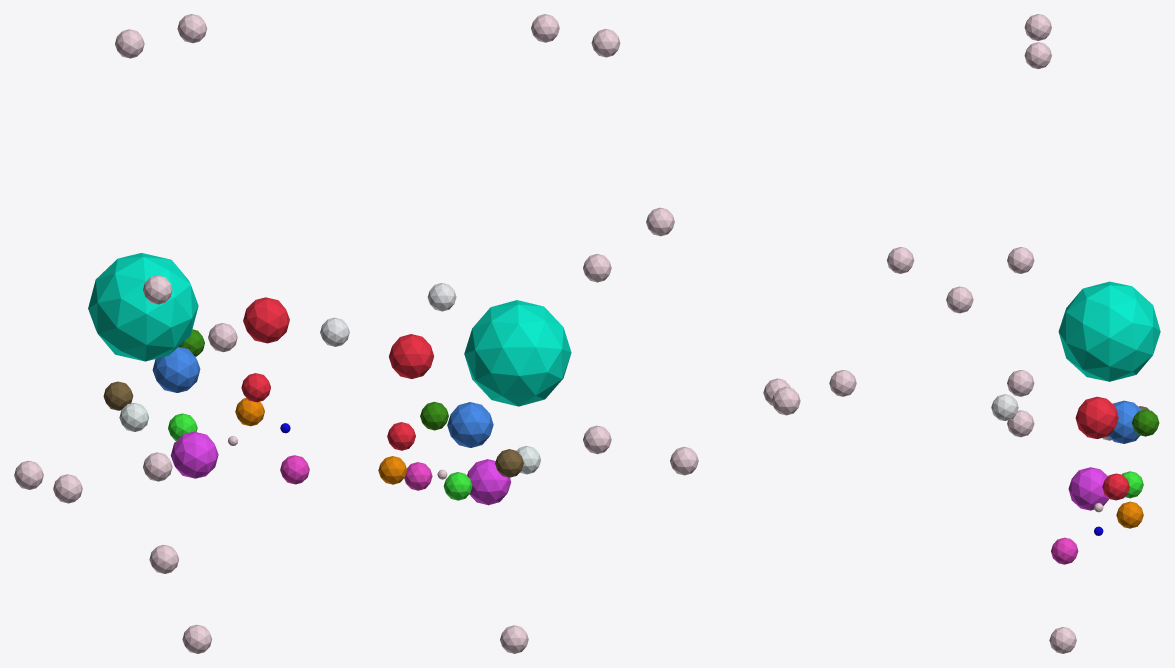
The model's file is bvh_test_scene2.gltf.
3 views of the same model, side by side, from view 1: azimuth 30°, elevation 25°; view 2: azimuth 150°, elevation 25°; view 3: azimuth 270°, elevation 25° (orthographic). The views are drawn at different scales.
Parts seen in each view (by area): view 1: Icosphere.010, Icosphere.006, Icosphere.007, Icosphere.001, Icosphere.016, Icosphere.004, Icosphere.008, Icosphere.014, Icosphere.018, Icosphere.019, Icosphere.020, Icosphere.021 (+8 smaller); view 2: Icosphere.010, Icosphere.001, Icosphere.007, Icosphere.006, Icosphere.012, Icosphere.003, Icosphere.014, Icosphere.017, Icosphere, Icosphere.019, Icosphere.020, Icosphere.002 (+7 smaller); view 3: Icosphere.010, Icosphere.007, Icosphere.006, Icosphere.001, Icosphere.008, Icosphere.014, Icosphere.017, Icosphere.022, Icosphere.018, Icosphere, Icosphere.011, Icosphere.012 (+6 smaller).
Boxes of the visible parts, x1=… form: Icosphere.010: x1=88, y1=253, x2=198, y2=361; Icosphere.006: x1=170, y1=431, x2=218, y2=478; Icosphere.007: x1=243, y1=297, x2=289, y2=343; Icosphere.001: x1=152, y1=346, x2=200, y2=392; Icosphere.016: x1=115, y1=29, x2=144, y2=58; Icosphere.004: x1=119, y1=403, x2=148, y2=431; Icosphere.008: x1=280, y1=455, x2=309, y2=484; Icosphere.014: x1=182, y1=624, x2=211, y2=653; Icosphere.018: x1=143, y1=275, x2=172, y2=304; Icosphere.019: x1=143, y1=452, x2=172, y2=481; Icosphere.020: x1=53, y1=474, x2=82, y2=503; Icosphere.021: x1=149, y1=545, x2=178, y2=573; Icosphere.010: x1=464, y1=300, x2=571, y2=406; Icosphere.001: x1=447, y1=402, x2=493, y2=447; Icosphere.007: x1=389, y1=334, x2=434, y2=378; Icosphere.006: x1=467, y1=459, x2=511, y2=505; Icosphere.012: x1=420, y1=401, x2=448, y2=430; Icosphere.003: x1=378, y1=456, x2=407, y2=484; Icosphere.014: x1=500, y1=625, x2=528, y2=653; Icosphere.017: x1=646, y1=207, x2=674, y2=236; Icosphere: x1=387, y1=422, x2=415, y2=450; Icosphere.019: x1=583, y1=425, x2=611, y2=454; Icosphere.020: x1=670, y1=446, x2=698, y2=475; Icosphere.002: x1=443, y1=472, x2=472, y2=500; Icosphere.010: x1=1058, y1=281, x2=1160, y2=381; Icosphere.007: x1=1075, y1=396, x2=1118, y2=438; Icosphere.006: x1=1068, y1=467, x2=1109, y2=510; Icosphere.001: x1=1108, y1=400, x2=1141, y2=443; Icosphere.008: x1=1051, y1=537, x2=1078, y2=564; Icosphere.014: x1=1049, y1=627, x2=1076, y2=653; Icosphere.017: x1=887, y1=247, x2=914, y2=273; Icosphere.022: x1=946, y1=286, x2=973, y2=313; Icosphere.018: x1=1007, y1=247, x2=1034, y2=273; Icosphere: x1=1102, y1=473, x2=1129, y2=500; Icosphere.011: x1=991, y1=394, x2=1018, y2=420; Icosphere.012: x1=1132, y1=409, x2=1159, y2=436.
Size of the model in its own units: 27.45 by 48.17 by 24.06.
